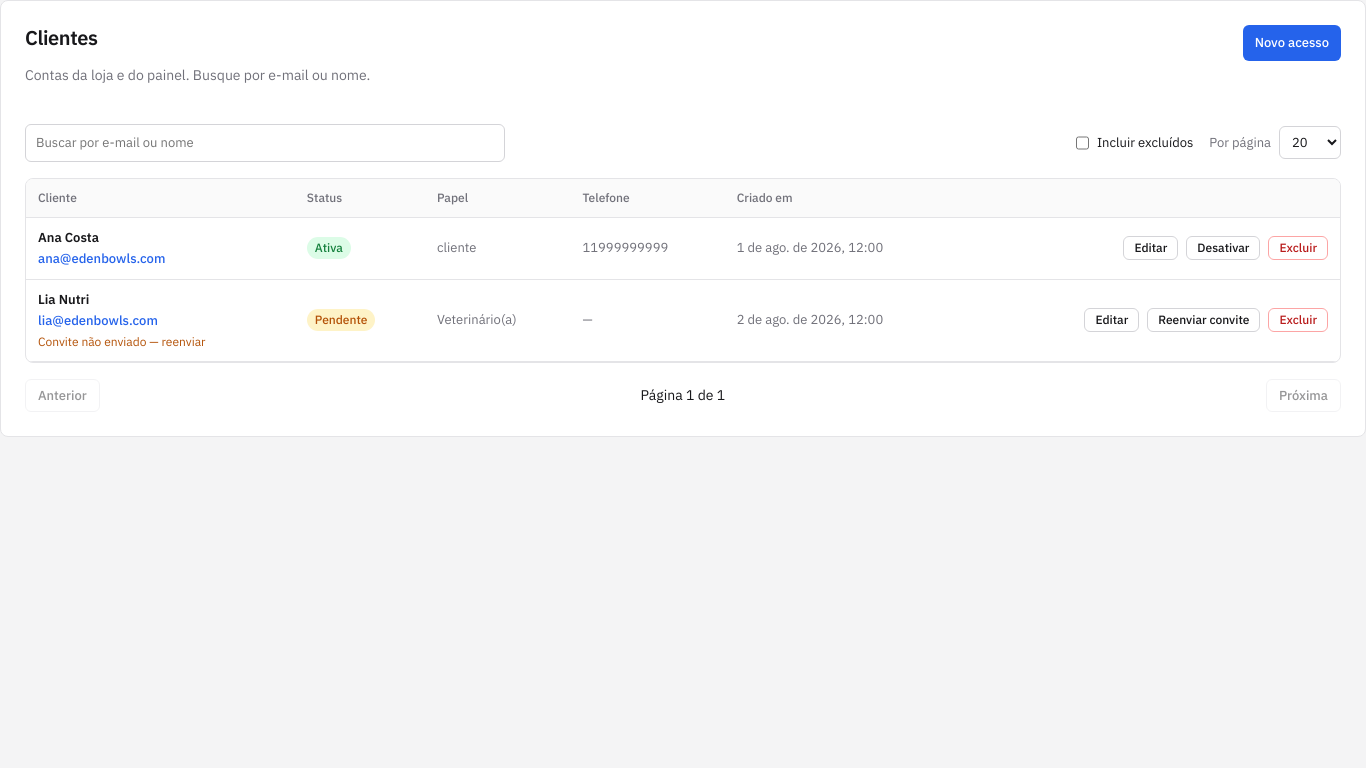
Test: UsersPage access CRUD › opens a new access with no role picked and asks for one
The width and height of the screenshot is (1366, 768).
Step 1. Click the button "Novo acesso" → {"x": 1292, "y": 43}, box [1243, 25, 1341, 60]
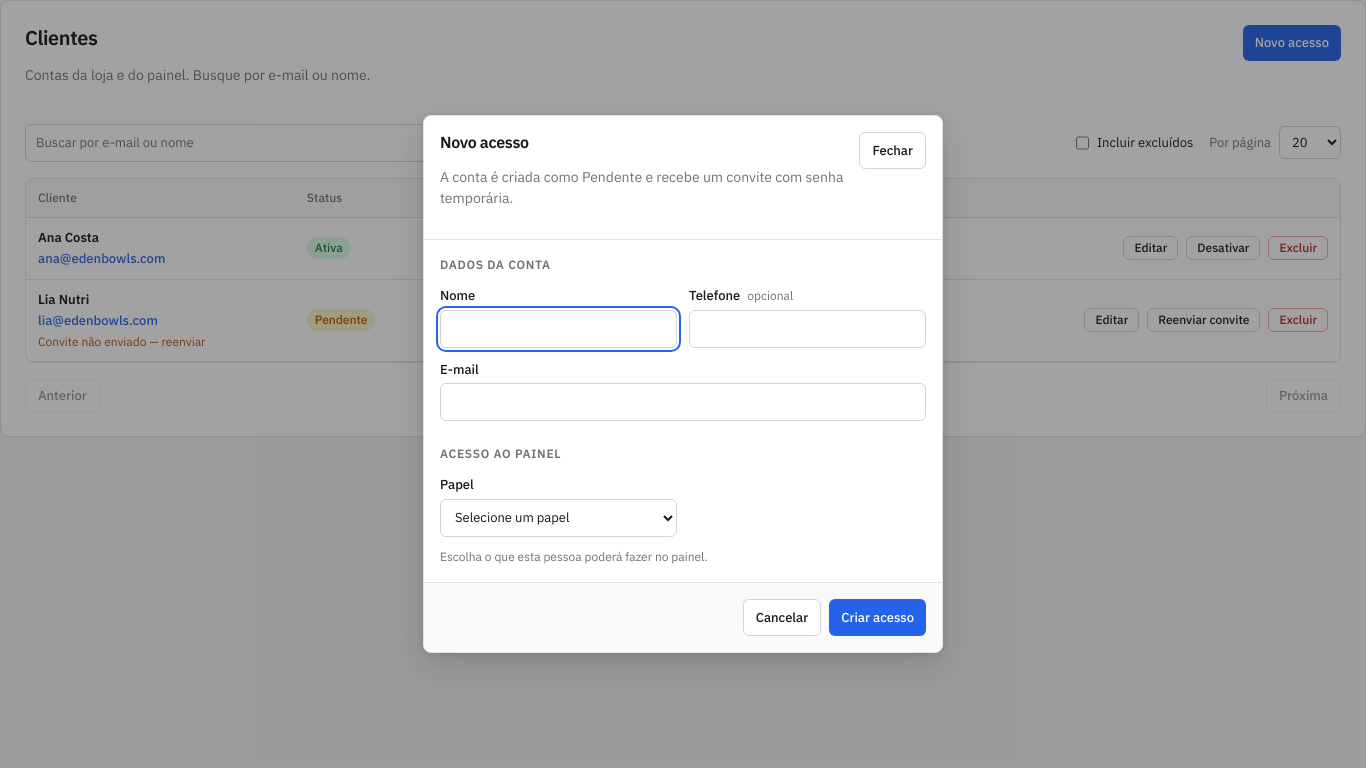
Now the dropdown labelled "Papel" shows "Selecione um papel", box [440, 499, 677, 537]
Step 2. Type "Lia" into the field labelled "Nome" → {"x": 558, "y": 329}, box [440, 310, 677, 348]
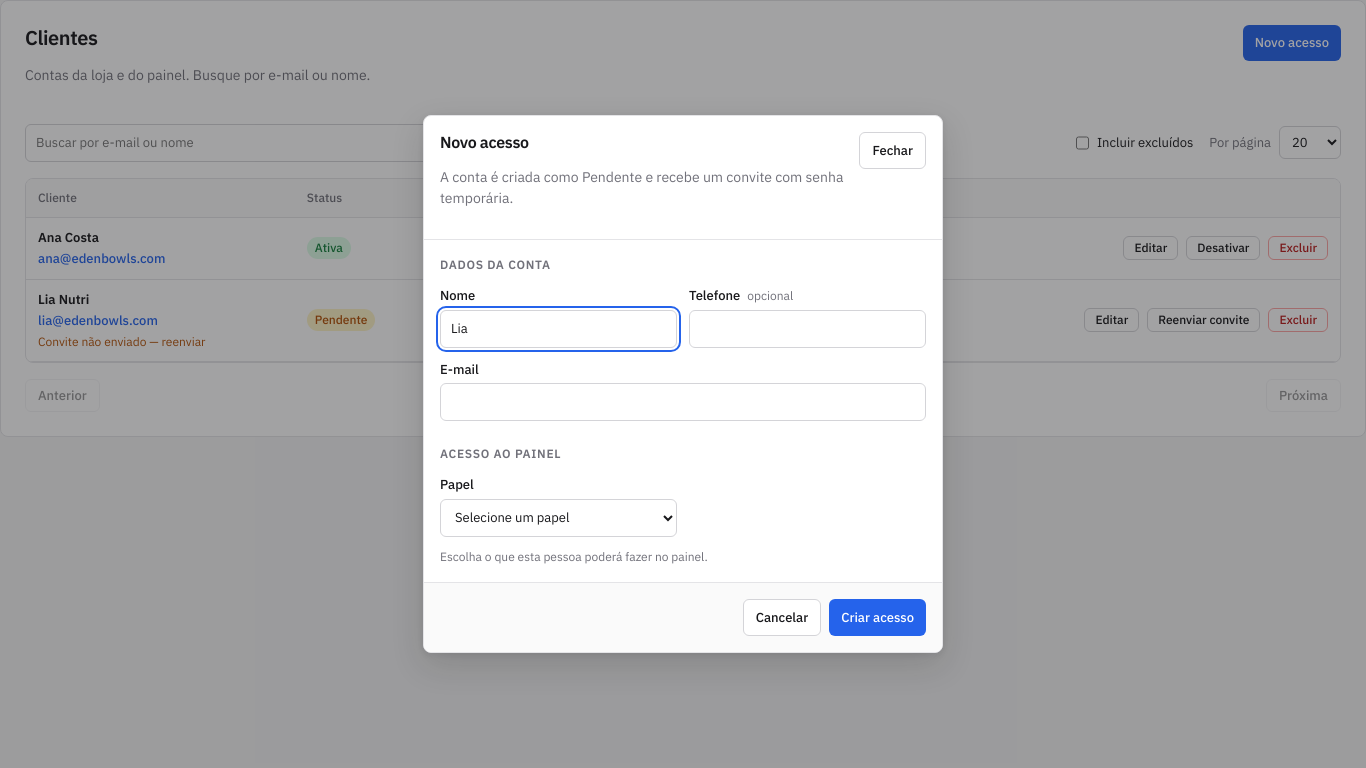
Step 3. Type "nova.lia@edenbowls.com" into the field labelled "E-mail" → {"x": 683, "y": 402}, box [440, 383, 926, 421]
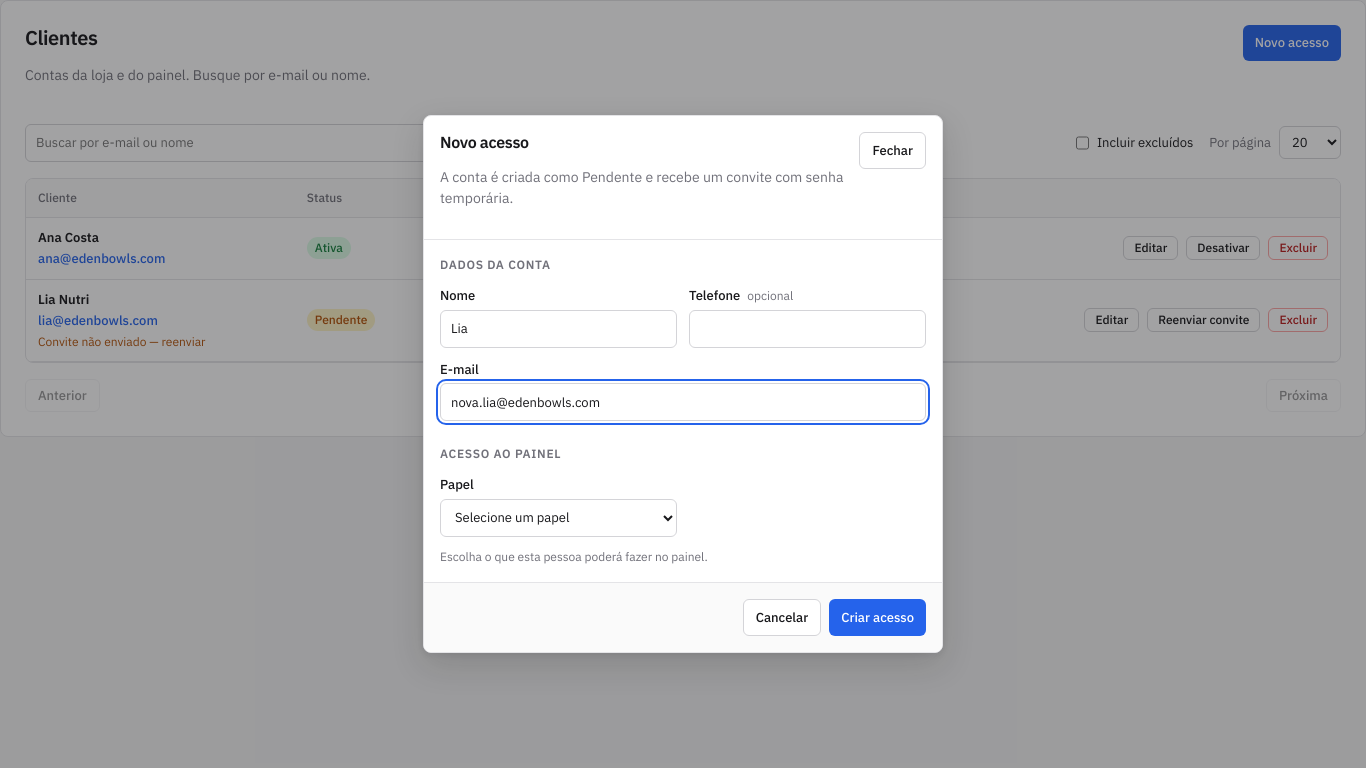
Step 4. Click the button "Criar acesso" → {"x": 878, "y": 617}, box [829, 599, 926, 636]
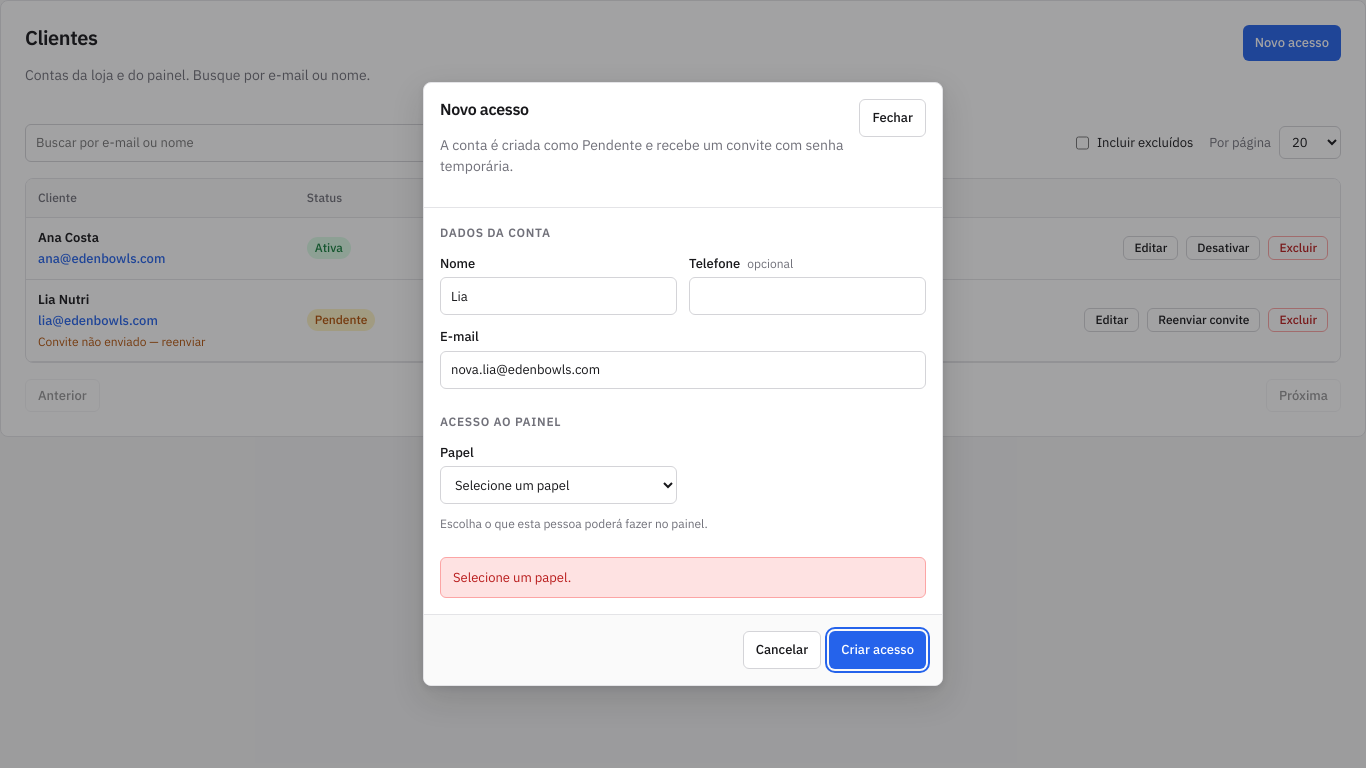
Now the text "Selecione um papel." is shown, box [440, 557, 926, 598]
